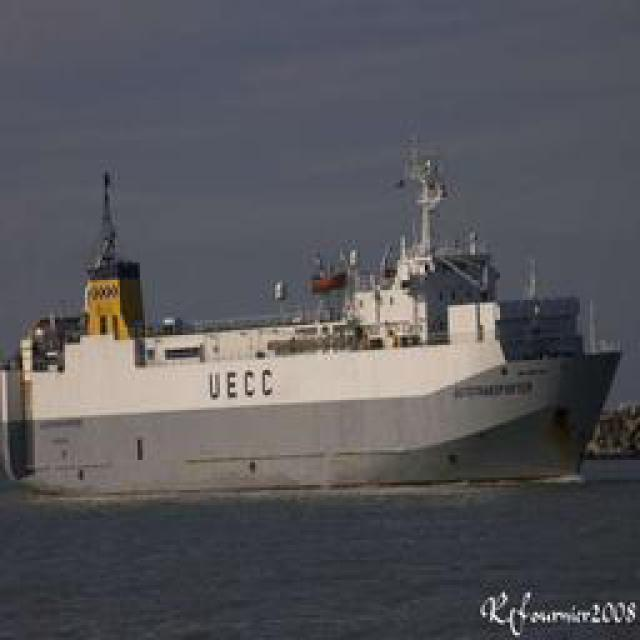Ship: (19, 117, 619, 497)
